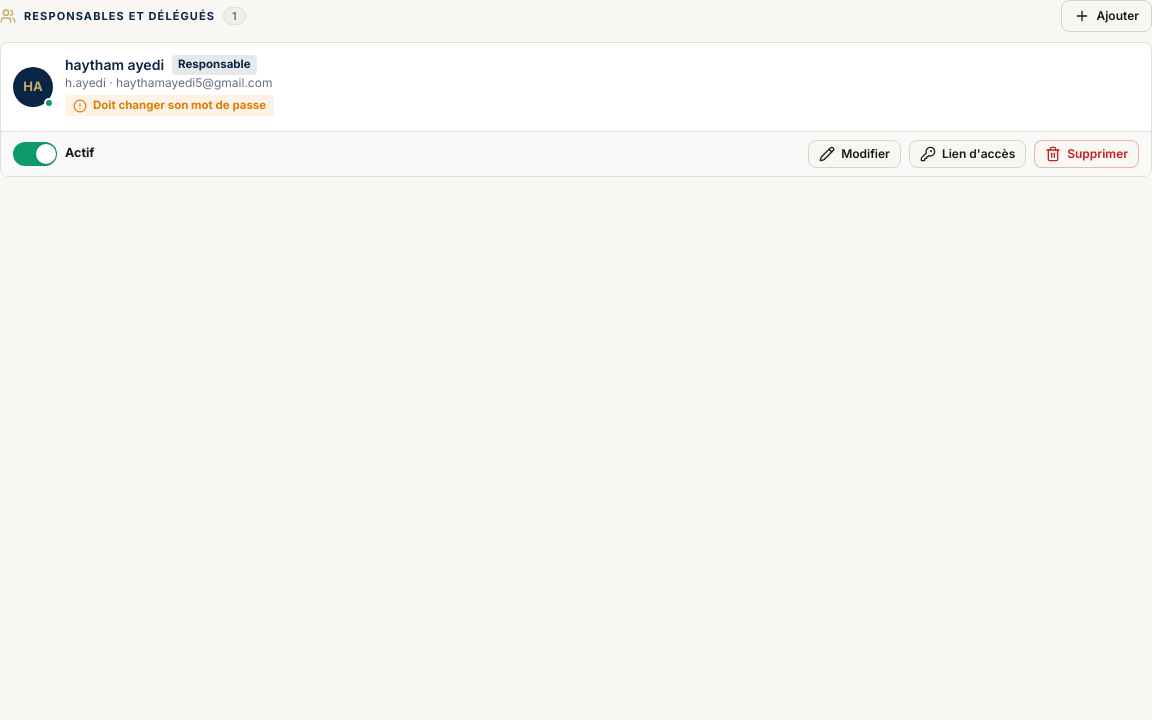
Test: compte de société en carte › l'email est obligatoire, et « Lien d'accès » apparaît pour l'adresse enregistrée
This screenshot has width=1152, height=720.
Step 1. Click the button with aria-label "Modifier haytham ayedi" → {"x": 854, "y": 154}, box [808,140,901,168]
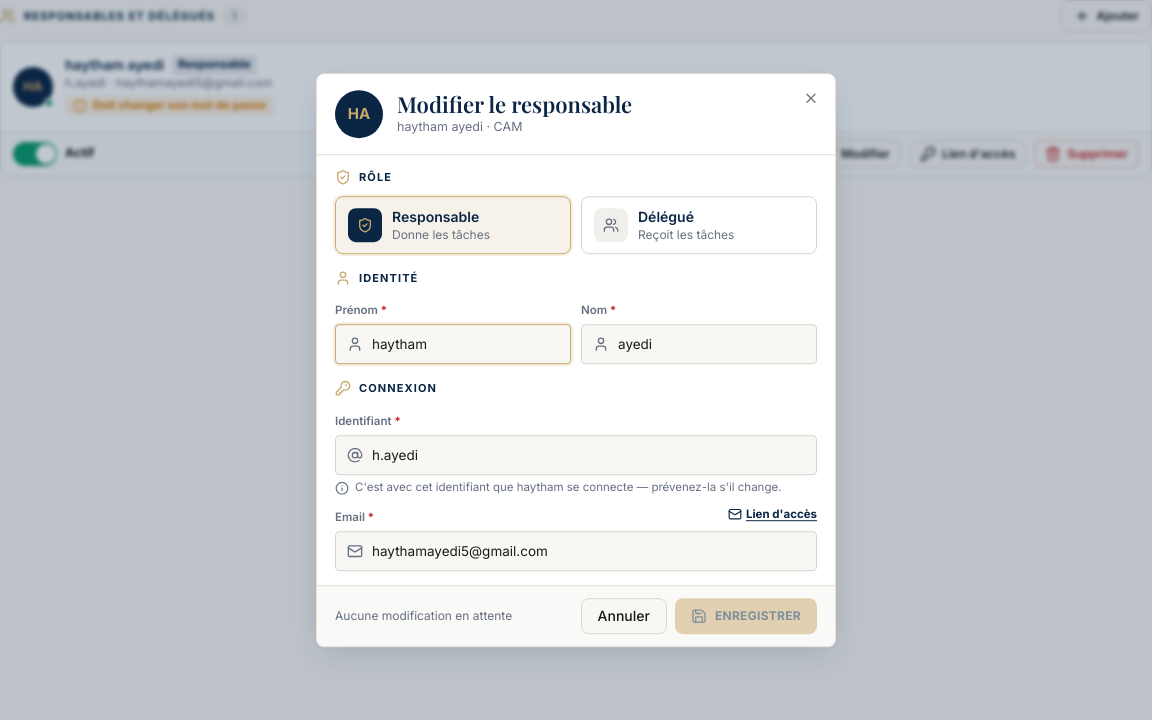
Expected: the button "Lien d'accès" is shown, [728,506,817,523]
Step 2. Clear the field labelled "Email *" → {"x": 576, "y": 551}, box [335,531,817,571]
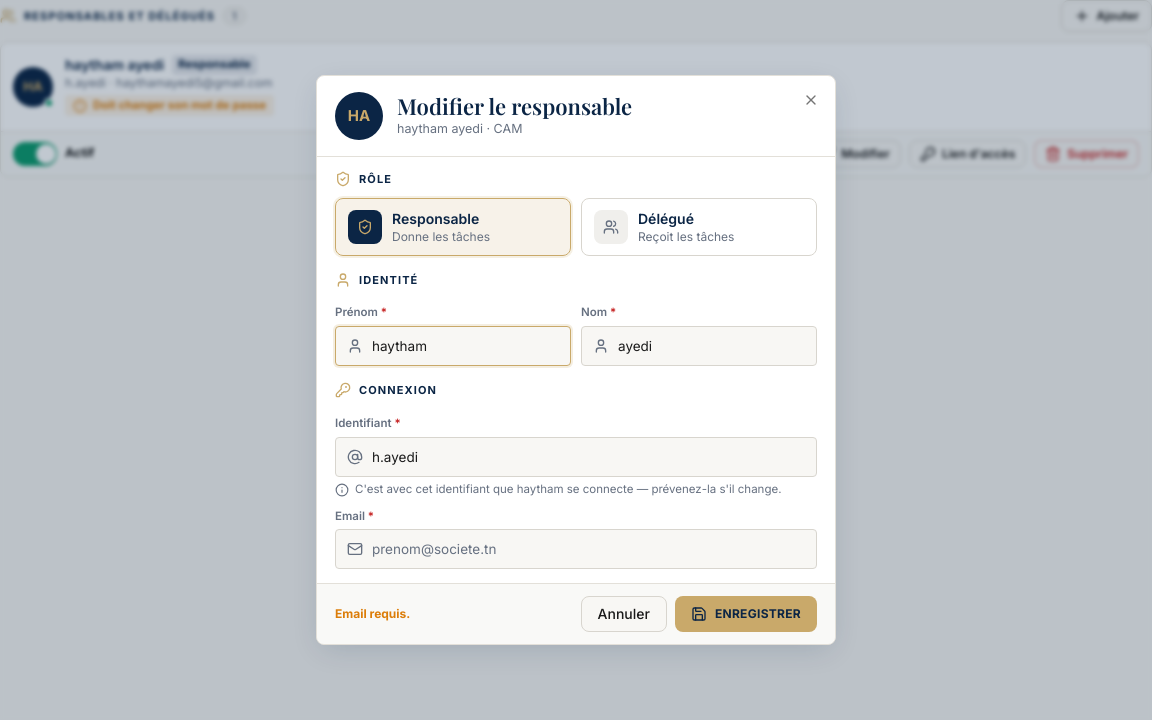
Expected: the text "Email requis." is shown, [335,606,410,622]
Step 3. Type "pas-un-email" into the field labelled "Email *" → {"x": 576, "y": 549}, box [335,529,817,569]
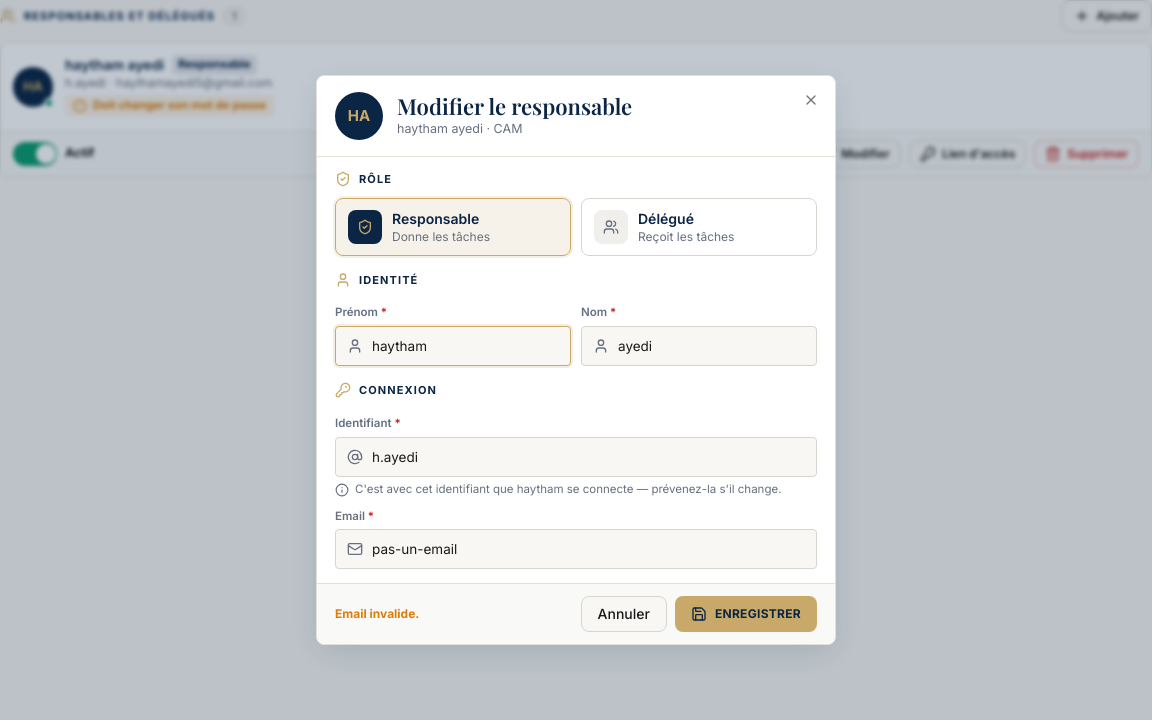
Expected: the text "Email invalide." is shown, [335,606,419,622]
